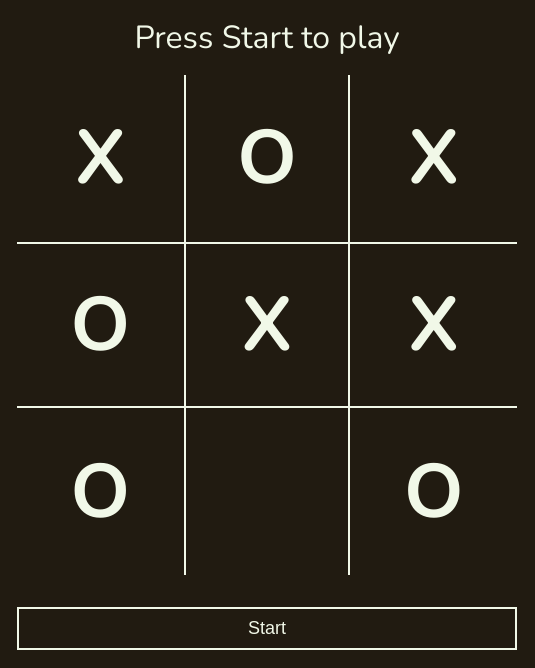
Game play › shows draw
This screenshot has width=535, height=668.
Click the button "Start" at (267, 628), box [17, 607, 517, 650]
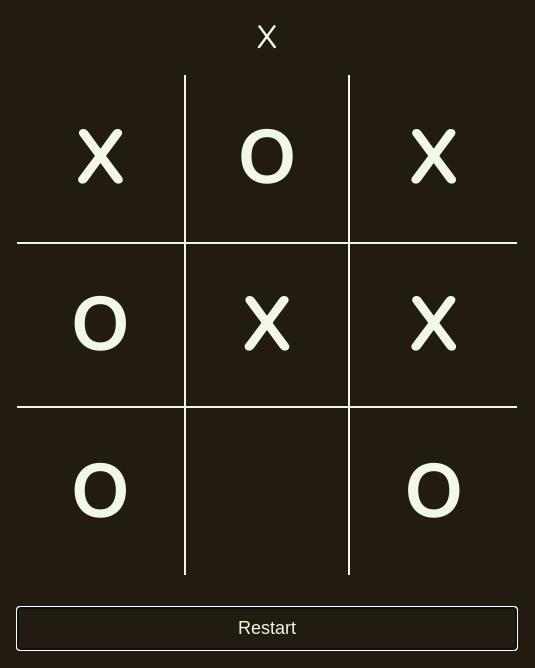
Click the button with test id "7" at (267, 492), box [184, 408, 350, 575]
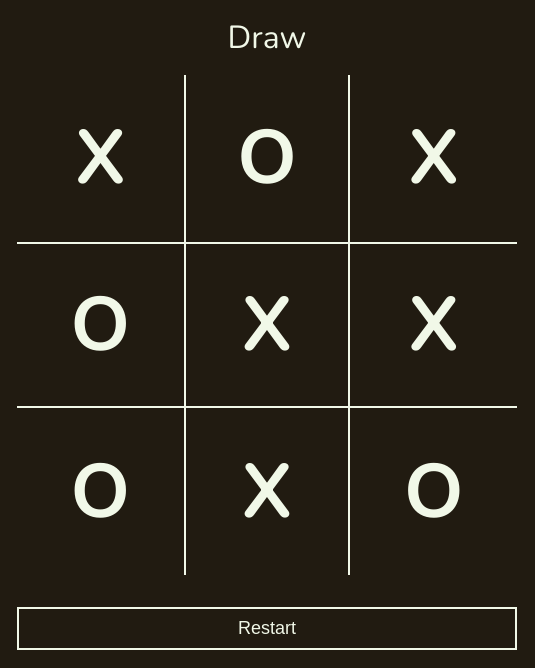
Now the button "Restart" is shown, box [17, 607, 517, 650]
Now the text "Draw" is shown, box [228, 16, 306, 59]
